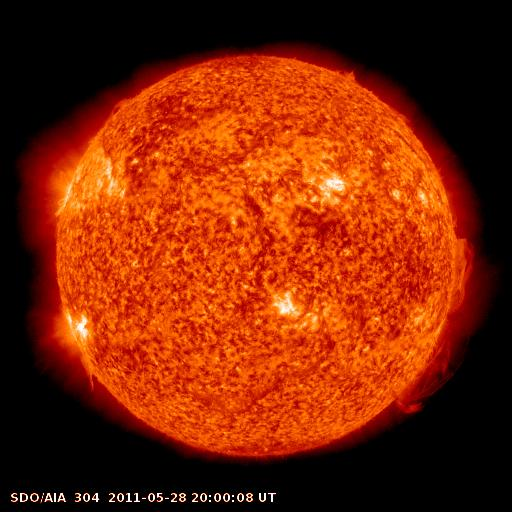prominence: (388, 319, 458, 417), (444, 233, 482, 313), (74, 350, 112, 400), (334, 61, 365, 91), (102, 93, 136, 120)
